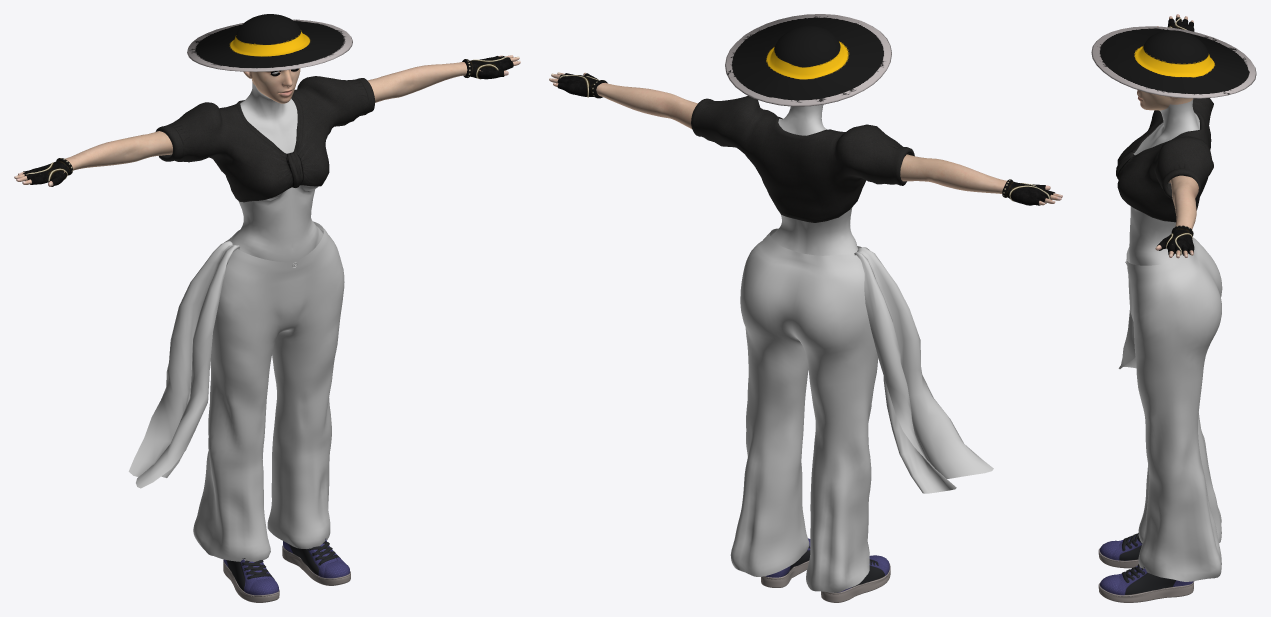
3 views of the same model, side by side, from view 1: azimuth 30°, elevation 25°; view 2: azimuth 150°, elevation 25°; view 3: azimuth 270°, elevation 25° (orthographic). The views are drawn at different scales.
Visible parts, largest first — view 1: pantalon, blusa, Cuerpo, tela, Sombrero, ZAPATO, guantes; view 2: pantalon, blusa, Sombrero, tela, Cuerpo, ZAPATO, guantes; view 3: pantalon, Sombrero, blusa, Cuerpo, ZAPATO, guantes, tela.
Part boxes in pixels (x1,y1,x2,y2): pantalon: (193,221,344,561); blusa: (155,76,375,202); Cuerpo: (14,55,520,262); tela: (128,241,239,488); Sombrero: (187,14,352,71); ZAPATO: (223,538,350,602); guantes: (23,56,513,186); pantalon: (730,228,878,592); blusa: (691,96,914,222); Sombrero: (725,14,891,106); tela: (854,247,993,493); Cuerpo: (549,72,1062,255); ZAPATO: (761,538,890,602); guantes: (557,73,1054,205); pantalon: (1126,237,1222,581); Sombrero: (1091,26,1256,98); blusa: (1116,98,1213,222); Cuerpo: (1129,14,1199,265); ZAPATO: (1098,533,1194,602); guantes: (1157,17,1194,255); tela: (1118,308,1136,368).
Bounding box in the file's own units: 145 × 152 × 41.88.
